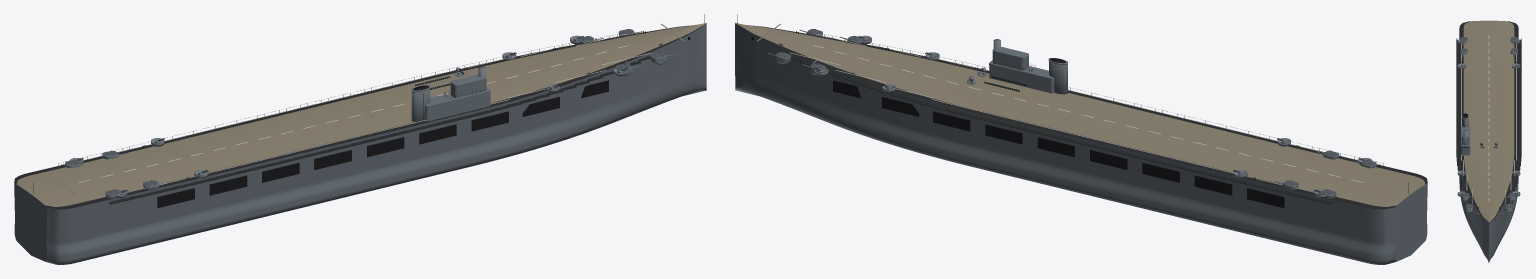
Rendered from lexington.glb.
3 views of the same model, side by side, from view 1: azimuth 30°, elevation 25°; view 2: azimuth 150°, elevation 25°; view 3: azimuth 270°, elevation 25° (orthographic). The views are drawn at different scales.
Parts seen in each view (by area): view 1: lexington; view 2: lexington; view 3: lexington, T_7_malla, T_6_malla, T_4_malla, T_5_malla.
Part boxes in pixels (box(x1,y1,x2,y2)): lexington: box(14, 14, 706, 264); lexington: box(735, 14, 1427, 264); lexington: box(1456, 20, 1521, 262); T_7_malla: box(1505, 204, 1512, 211); T_6_malla: box(1465, 204, 1472, 211); T_4_malla: box(1462, 193, 1469, 200); T_5_malla: box(1508, 193, 1516, 200).
Size of the model in its own units: 271 by 36.5 by 36.2.
